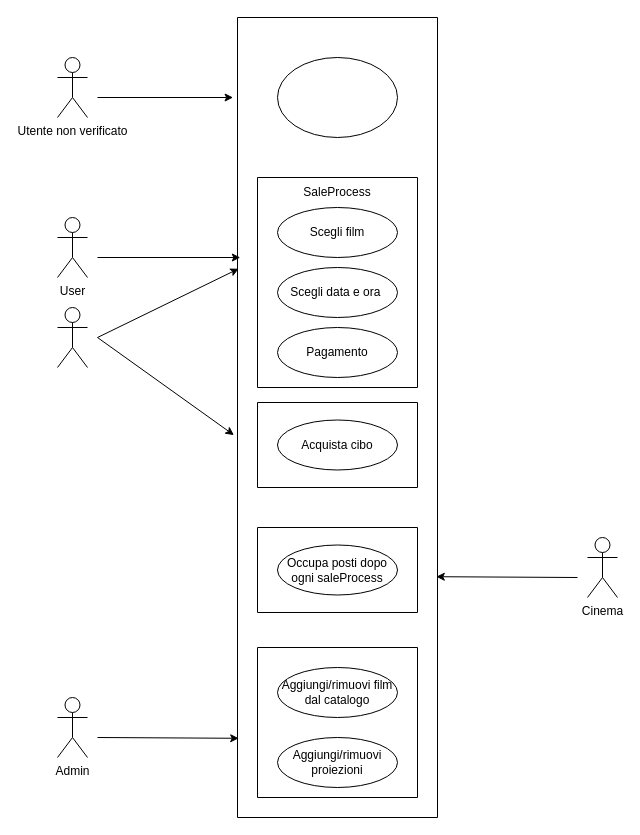
This 640x835 diagram has some shape labels left out. The centre of each missing label's shape, as x and y in pixels:
"Cashier" belongs at point (72, 337).
"Login" belongs at point (337, 97).
